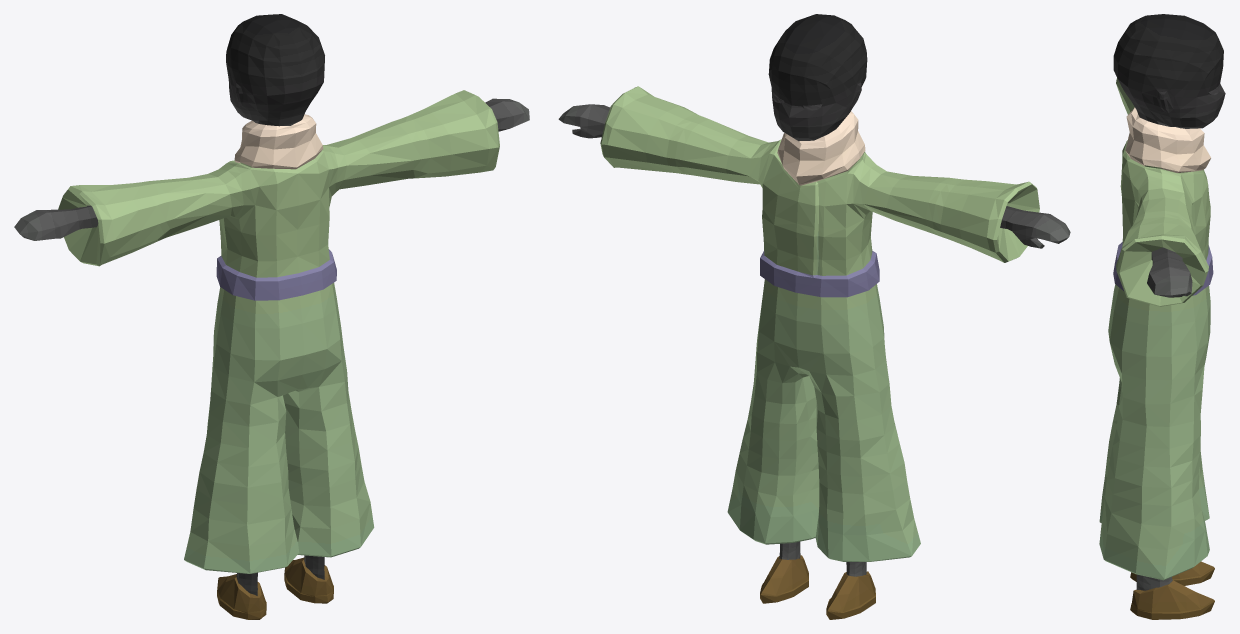
The model's file is CharSkyKid_Body_AP11GreenPajama_01.glb.
3 views of the same model, side by side, from view 1: azimuth 30°, elevation 25°; view 2: azimuth 150°, elevation 25°; view 3: azimuth 270°, elevation 25° (orthographic).
Visible parts, largest first — view 1: CharSkyKid_Body_AP11GreenPajama_01; view 2: CharSkyKid_Body_AP11GreenPajama_01; view 3: CharSkyKid_Body_AP11GreenPajama_01.
Boxes of the visible parts, left/top/right/bottom form: CharSkyKid_Body_AP11GreenPajama_01: left=14, top=14, right=529, bottom=619; CharSkyKid_Body_AP11GreenPajama_01: left=558, top=14, right=1070, bottom=619; CharSkyKid_Body_AP11GreenPajama_01: left=1099, top=14, right=1225, bottom=619.
Bounding box in the file's own units: 13.83 × 15.02 × 2.98.
1 material, 1 textured.
